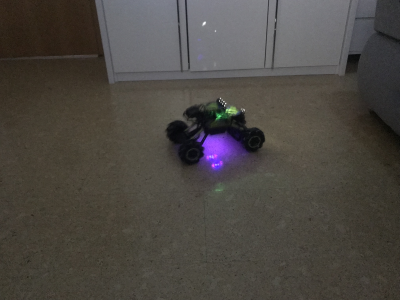remote control car: (163, 95, 267, 165)
